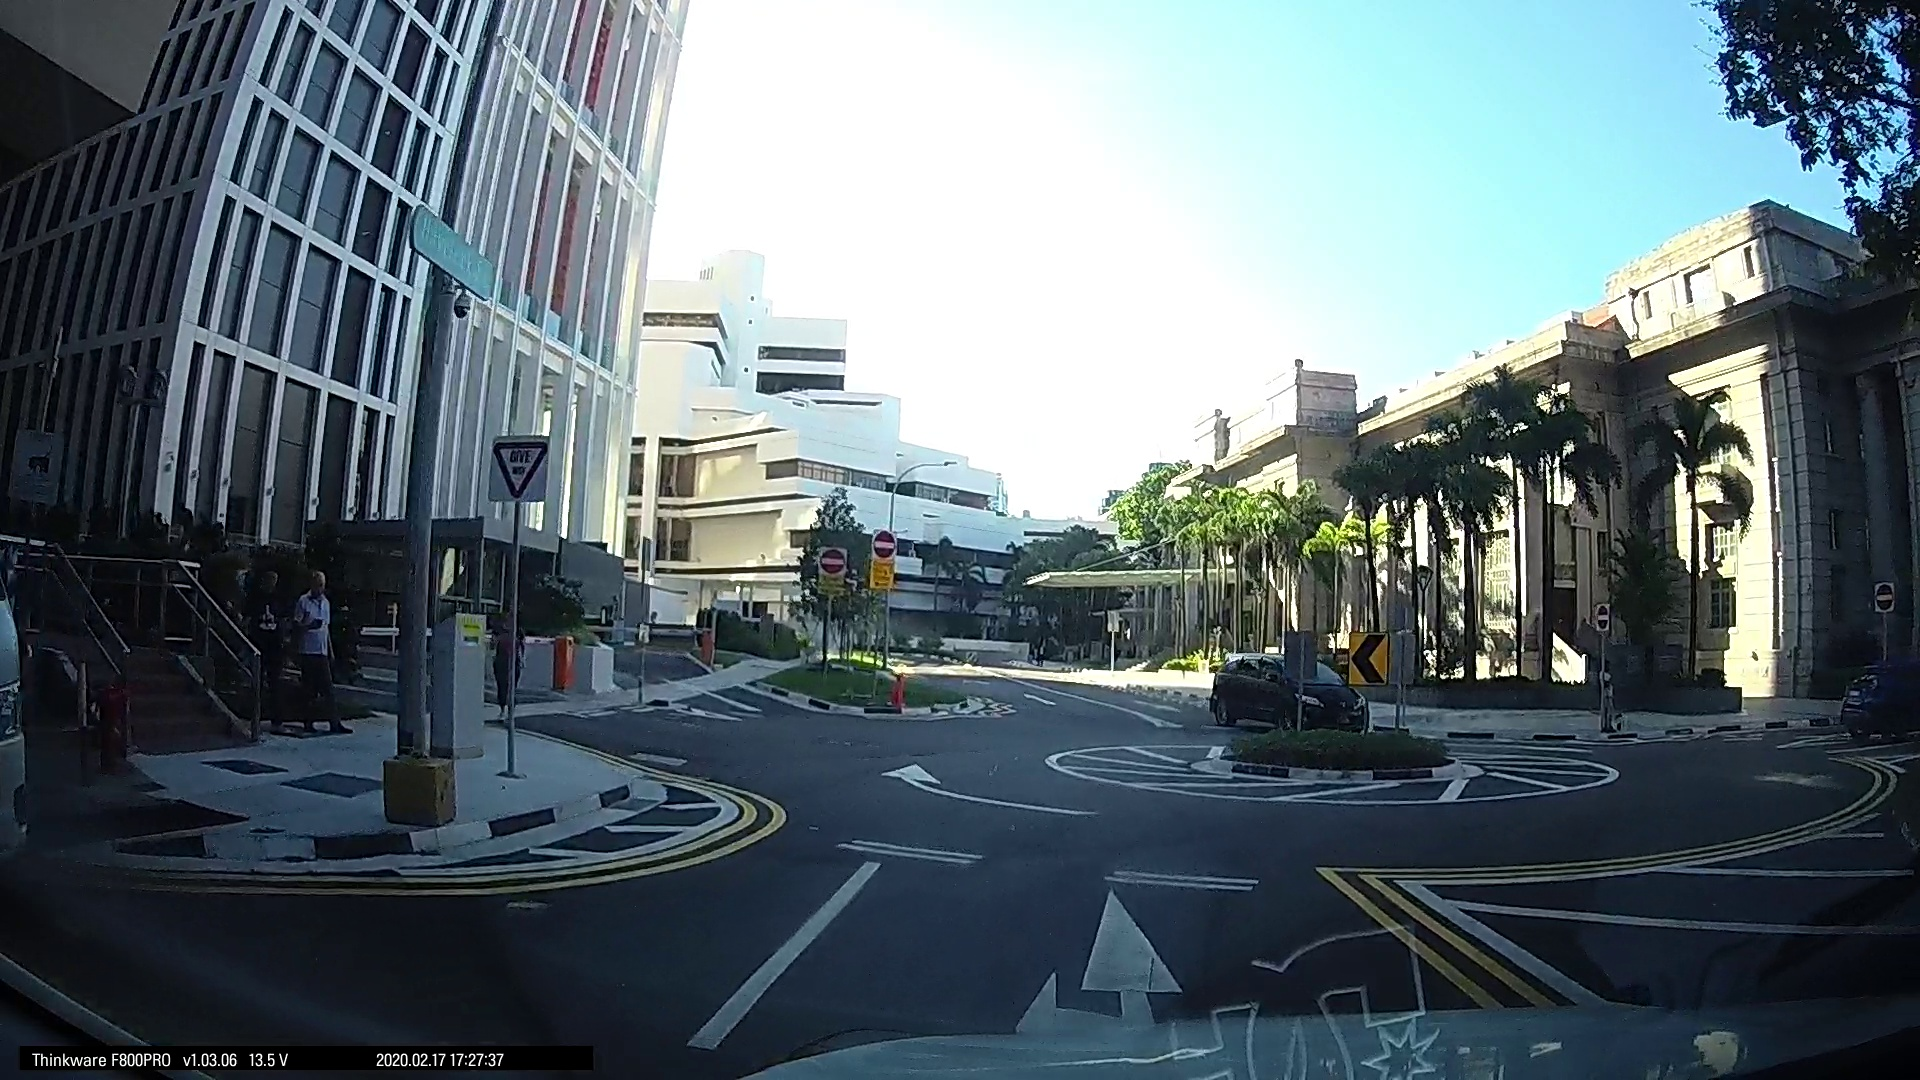Light Vehicle: (1203, 645, 1369, 735)
